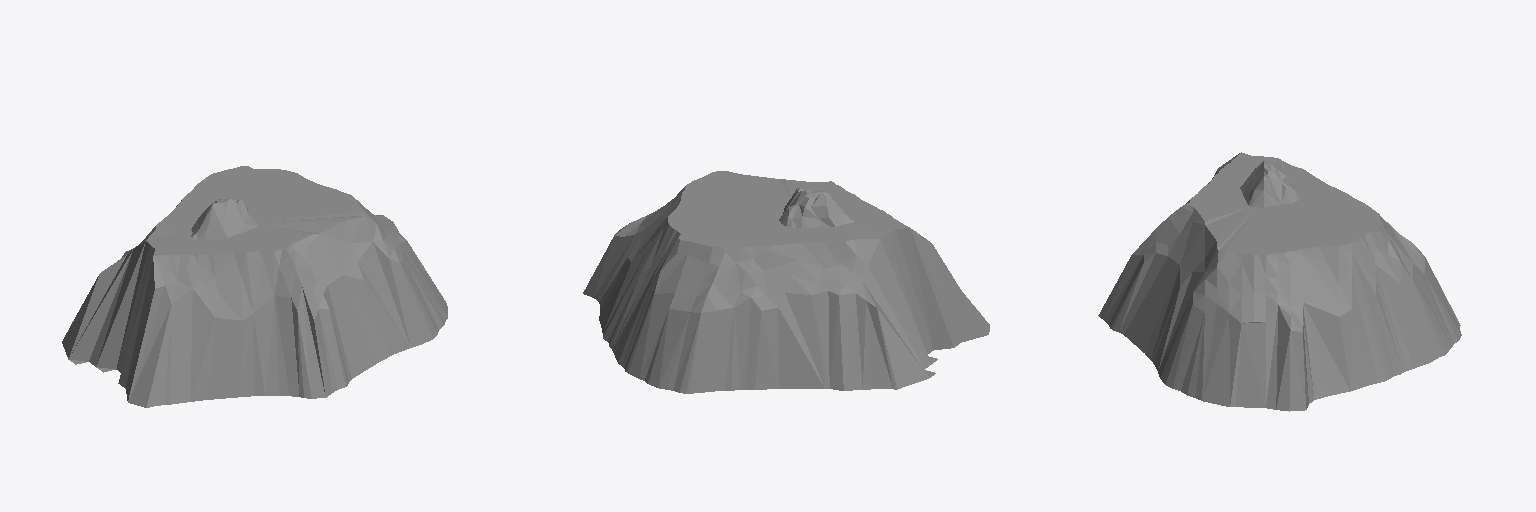
The model's file is Island1.obj.
The picture shows the model from 3 angles: view 1: azimuth 30°, elevation 25°; view 2: azimuth 150°, elevation 25°; view 3: azimuth 270°, elevation 25°; orthographic projection.
Parts seen in each view (by area): view 1: lighthouse; view 2: lighthouse; view 3: lighthouse.
Part boxes in pixels (x1,y1,x2,y2): lighthouse: (62,166,447,407); lighthouse: (583,171,989,393); lighthouse: (1098,152,1461,411).
Bounding box in the file's own units: 111 × 42.69 × 100.